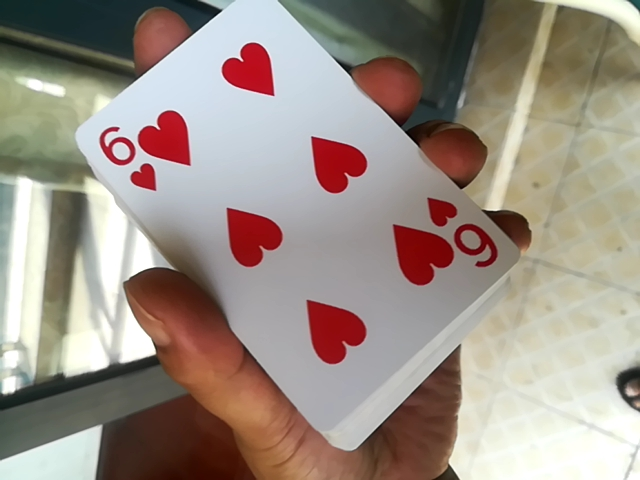hx 6: (77, 6, 497, 461)
